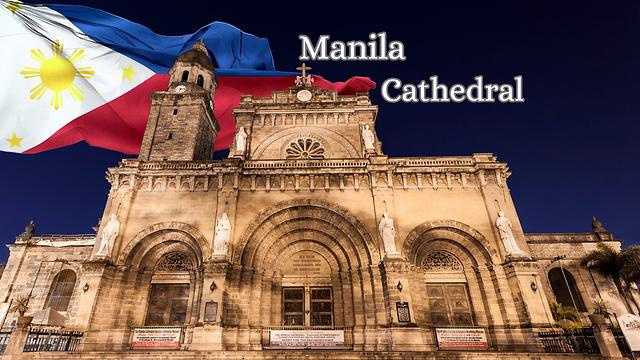manila_cathedral_church_intramuros_manila: (92, 32, 540, 355)
